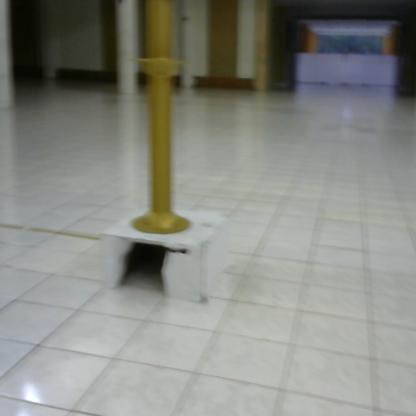pole: (127, 1, 200, 240)
